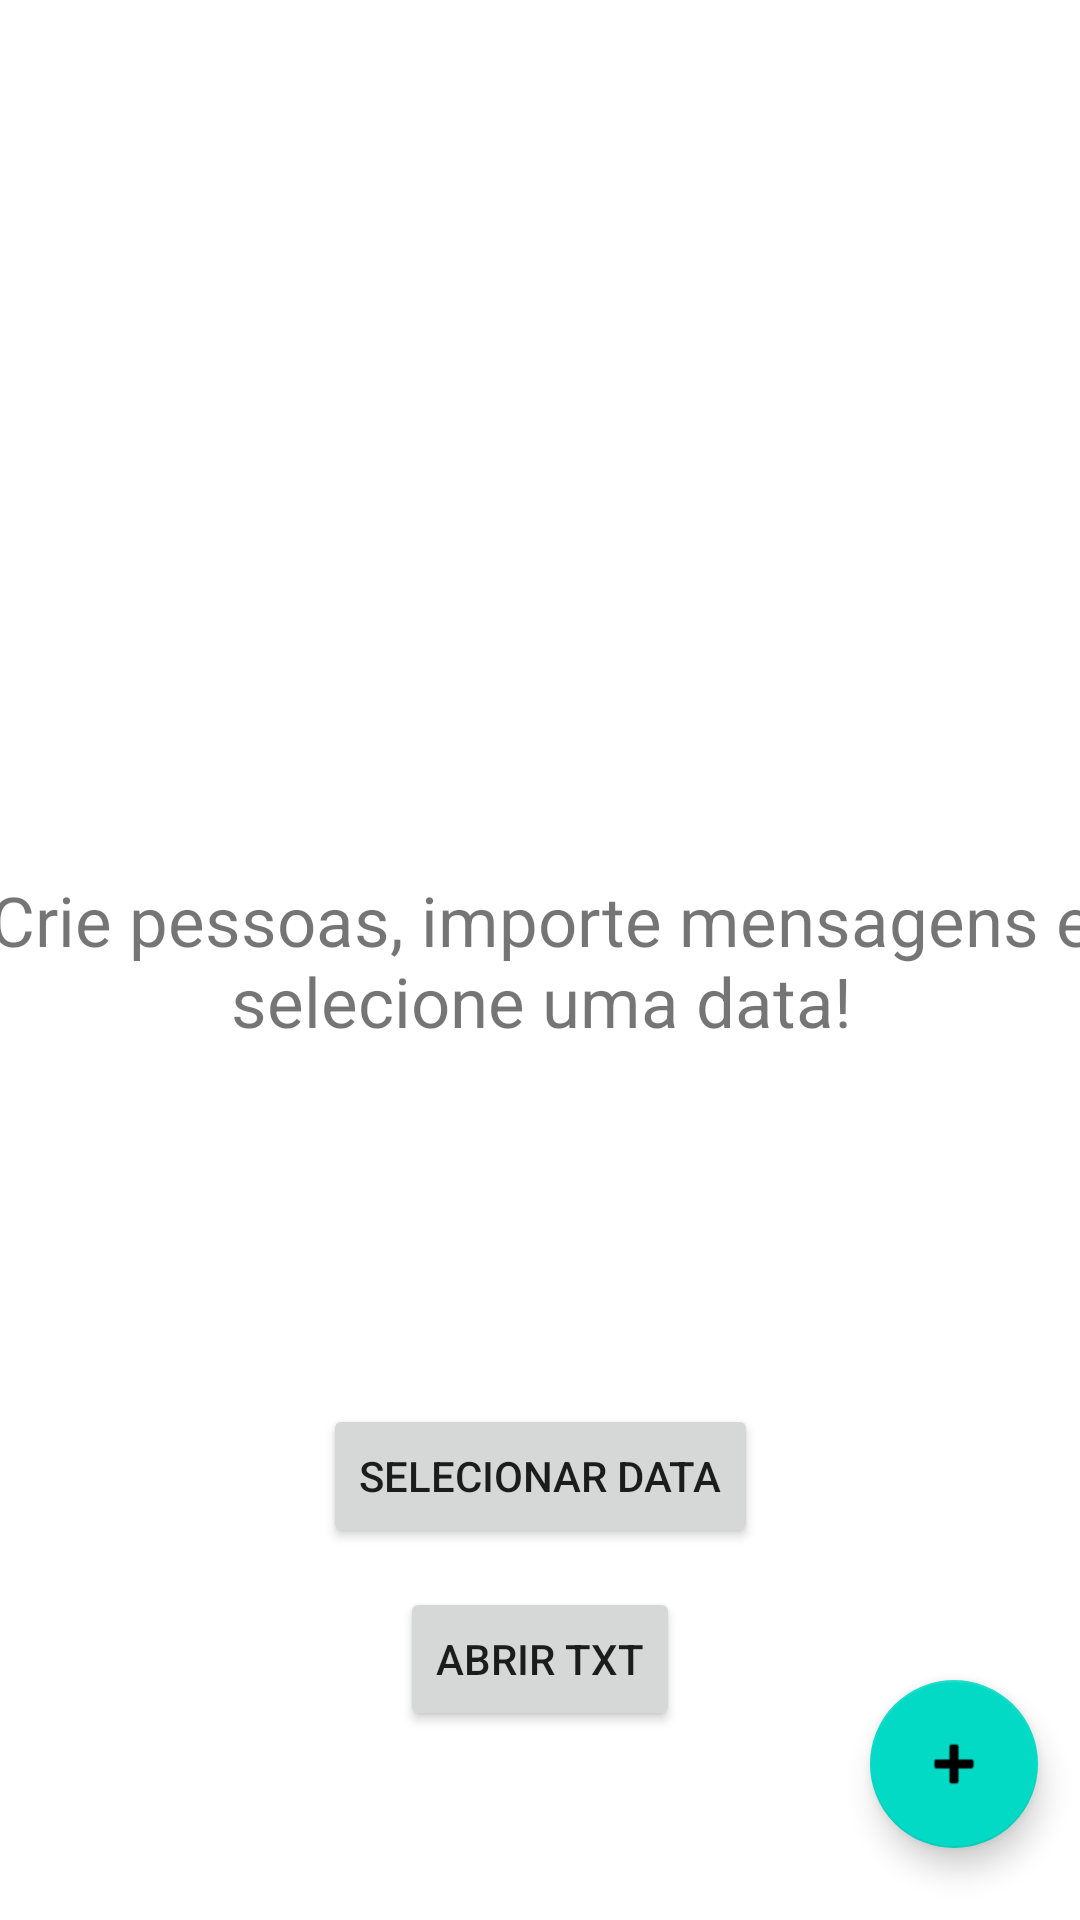

Screen size 1080 × 1920. Icon name, then its box in pixels as (x1,y1,x2,y2):
add: (870,1680,1038,1848)
